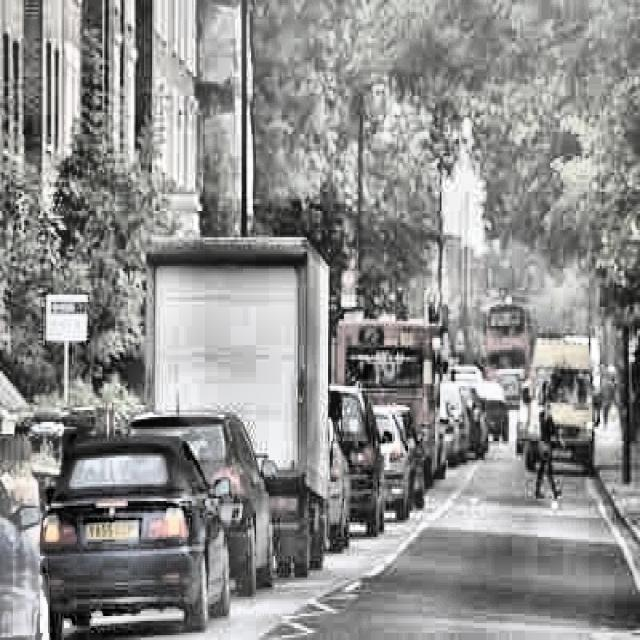license_plate: (86, 521, 142, 542)
